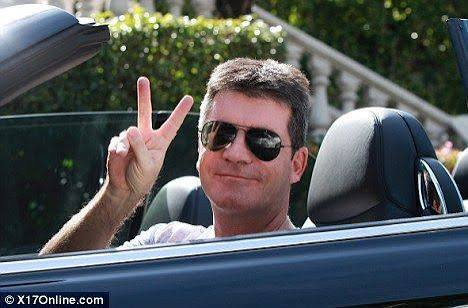peace_sign: (105, 73, 194, 194)
